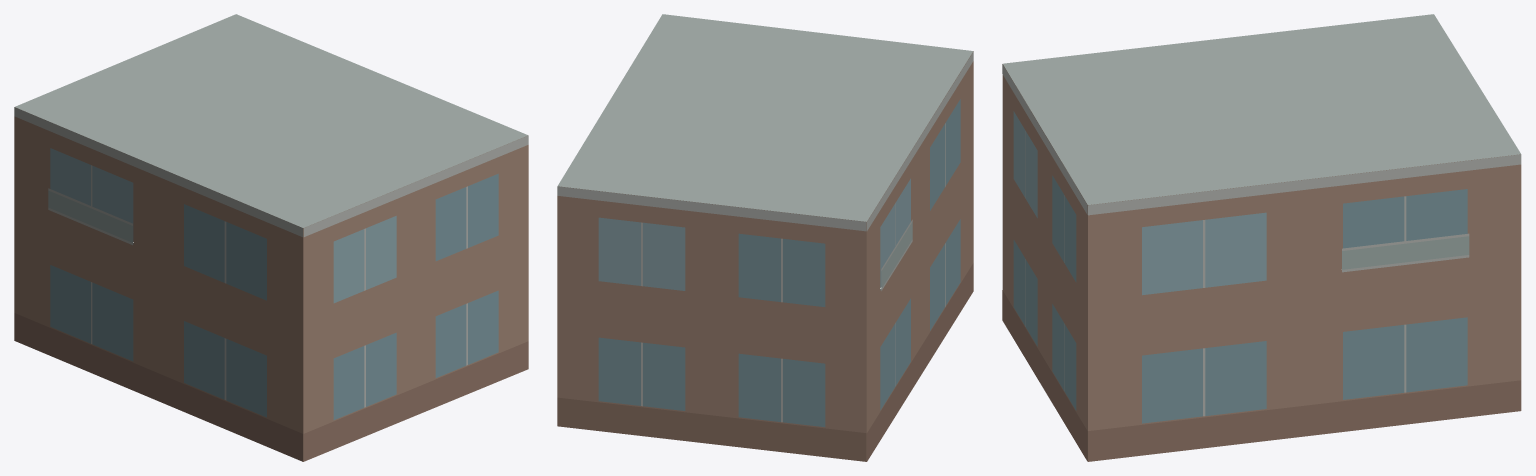
File: survey-upis-32685136.glb
3 renders of one model, left to right at view 1: azimuth 30°, elevation 25°; view 2: azimuth 150°, elevation 25°; view 3: azimuth 270°, elevation 25°, orthographic. The views are drawn at different scales.
Parts seen in each view (by area): view 1: survey-upis-32685136.tmp; view 2: survey-upis-32685136.tmp; view 3: survey-upis-32685136.tmp.
Boxes of the visible parts, x1,y1,x2,y2 form: survey-upis-32685136.tmp: (14, 14, 528, 461); survey-upis-32685136.tmp: (557, 14, 973, 461); survey-upis-32685136.tmp: (1002, 14, 1521, 461).
Bounding box in the file's own units: 9.75 × 6.1 × 11.18.
